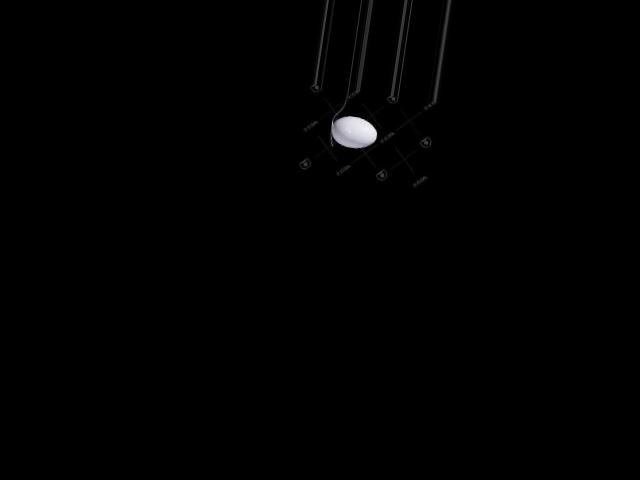egg: (329, 113, 379, 150)
